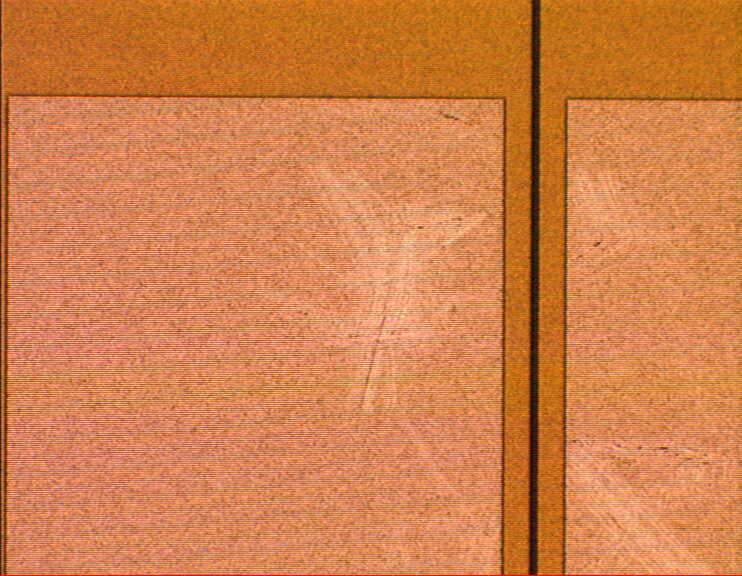SCRATCH: (254, 145, 721, 576)
